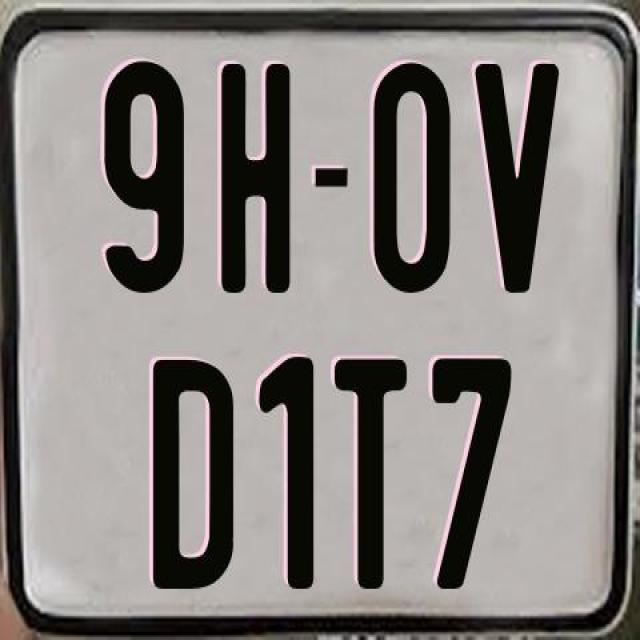0: (373, 61, 459, 293)
1: (256, 356, 316, 594)
7: (432, 353, 517, 584)
9: (104, 61, 190, 301)
D: (154, 357, 242, 589)
H: (218, 64, 290, 296)
T: (331, 353, 406, 592)
V: (474, 61, 564, 294)
